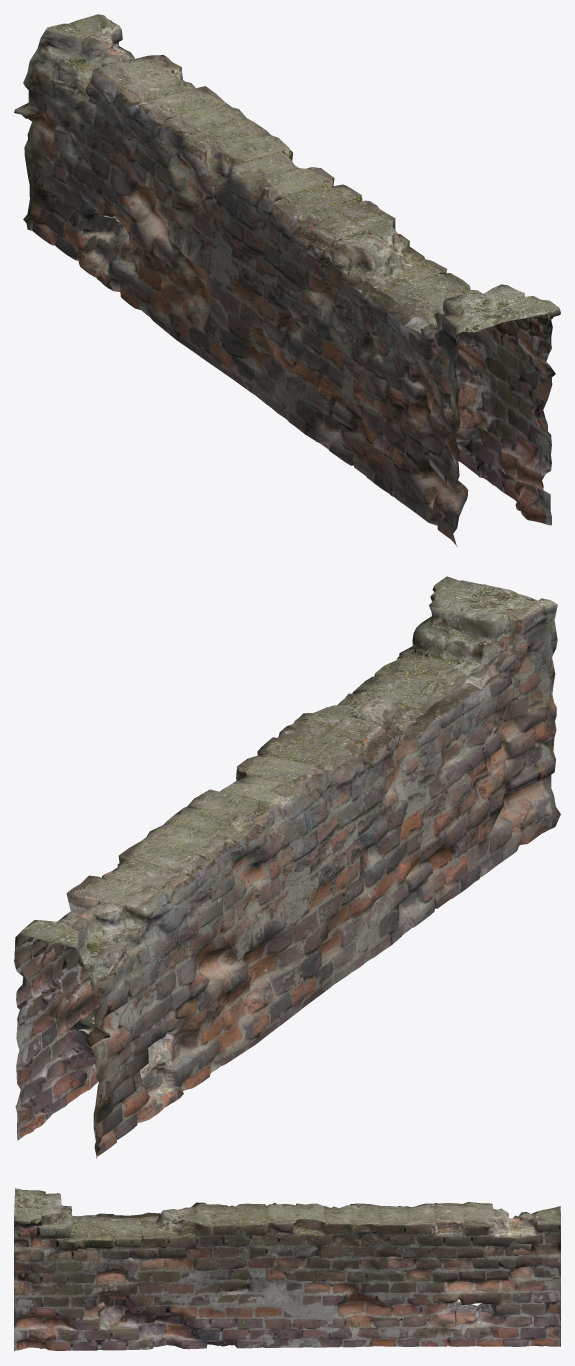
Rendered from SM_Fence_02_04.fbx.
3 views of the same model, one above another, from view 1: azimuth 30°, elevation 25°; view 2: azimuth 150°, elevation 25°; view 3: azimuth 270°, elevation 25° (orthographic). The views are drawn at different scales.
Parts seen in each view (by area): view 1: sm_Fence_02_04_LOD0; view 2: sm_Fence_02_04_LOD0; view 3: sm_Fence_02_04_LOD0.
Boxes of the visible parts, x1,y1,x2,y2 form: sm_Fence_02_04_LOD0: (14, 14, 560, 546); sm_Fence_02_04_LOD0: (14, 576, 560, 1158); sm_Fence_02_04_LOD0: (14, 1188, 560, 1351).
Bounding box in the file's own units: 389 × 59.89 × 107.
